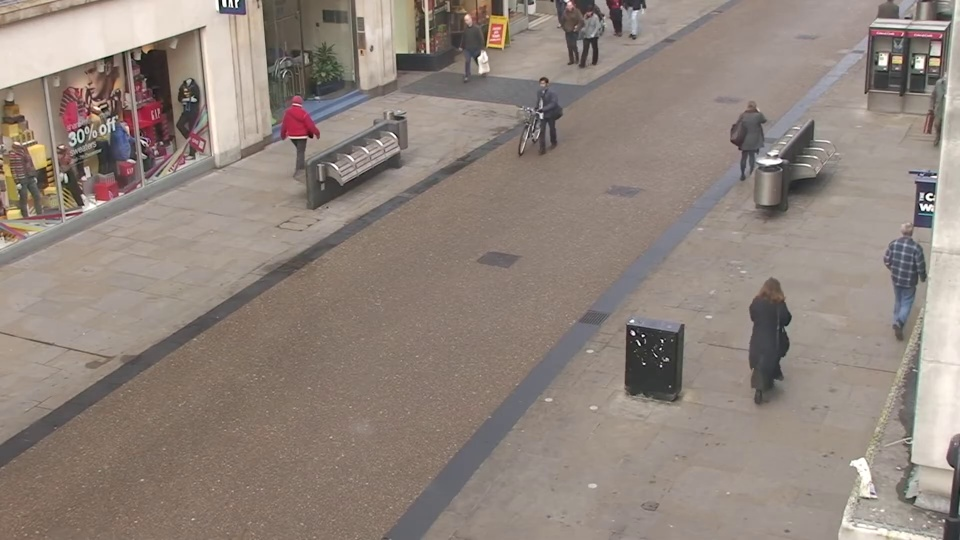pedestrian: (747, 261, 795, 396), (879, 208, 931, 330), (735, 95, 768, 185), (287, 91, 320, 178), (527, 74, 555, 159), (452, 13, 476, 80), (575, 5, 598, 70), (556, 1, 579, 65)
